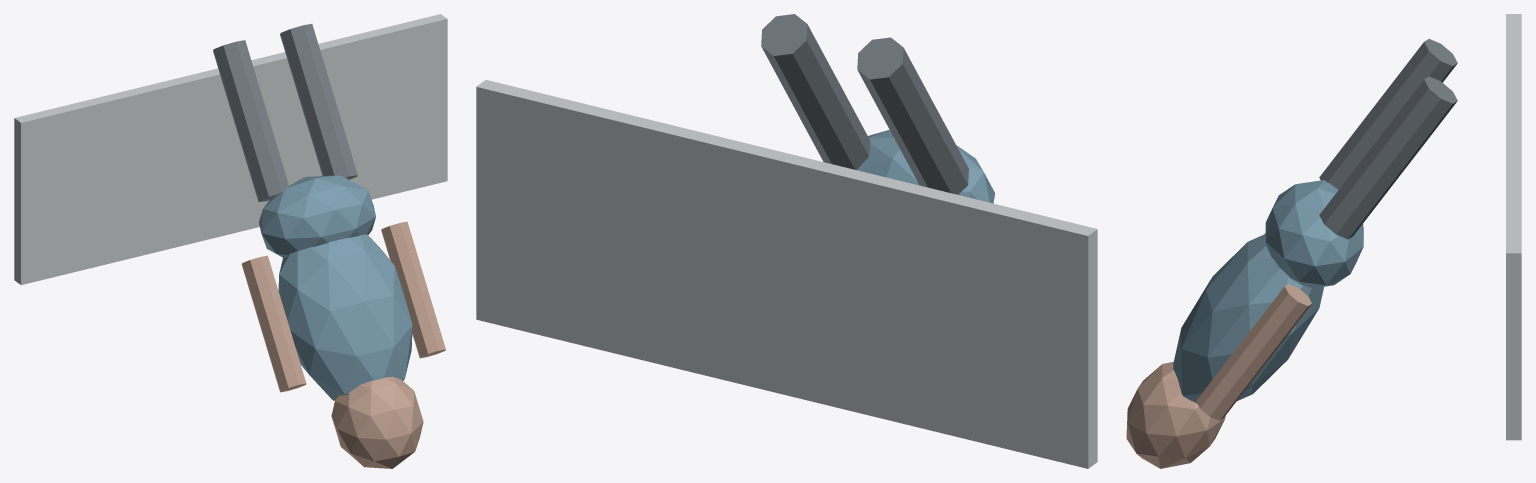
File: semi-seated-low.glb
The picture shows the model from 3 angles, left to right: view 1: azimuth 30°, elevation 25°; view 2: azimuth 150°, elevation 25°; view 3: azimuth 270°, elevation 25°; orthographic projection. The views are drawn at different scales.
Parts seen in each view (by area): view 1: reference_surface, torso, pelvis, head, left_leg, right_leg, left_arm, right_arm; view 2: reference_surface, left_leg, right_leg, pelvis; view 3: torso, right_leg, pelvis, reference_surface, head, right_arm, left_leg.
Part boxes in pixels (x1,y1,x2,y2): reference_surface: (14,14,447,285); torso: (278,234,412,400); pelvis: (259,175,375,257); head: (331,376,423,468); left_leg: (213,40,289,201); right_leg: (280,24,357,179); left_arm: (241,255,306,392); right_arm: (381,221,445,358); reference_surface: (476,80,1097,468); left_leg: (857,37,968,194); right_leg: (761,14,870,170); pelvis: (857,130,995,203); torso: (1173,234,1323,403); right_leg: (1319,76,1457,239); pelvis: (1265,180,1363,288); reference_surface: (1506,14,1521,440); head: (1126,362,1225,468); right_arm: (1196,284,1311,420); left_leg: (1319,39,1457,189).
Bounding box in the file's own units: 4.4 × 3.46 × 3.07.
